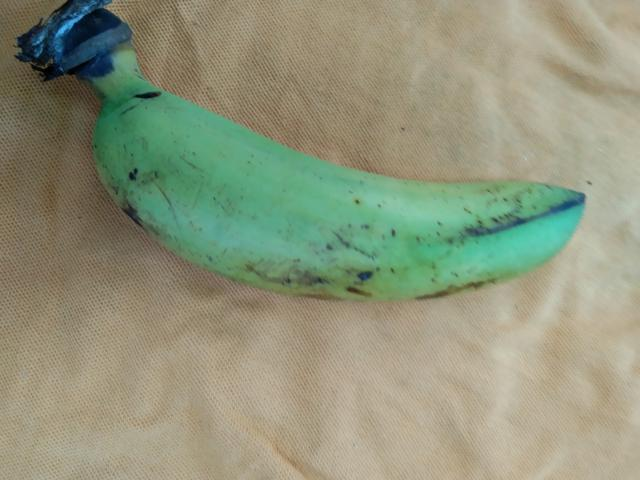ripe: (88, 76, 598, 321)
